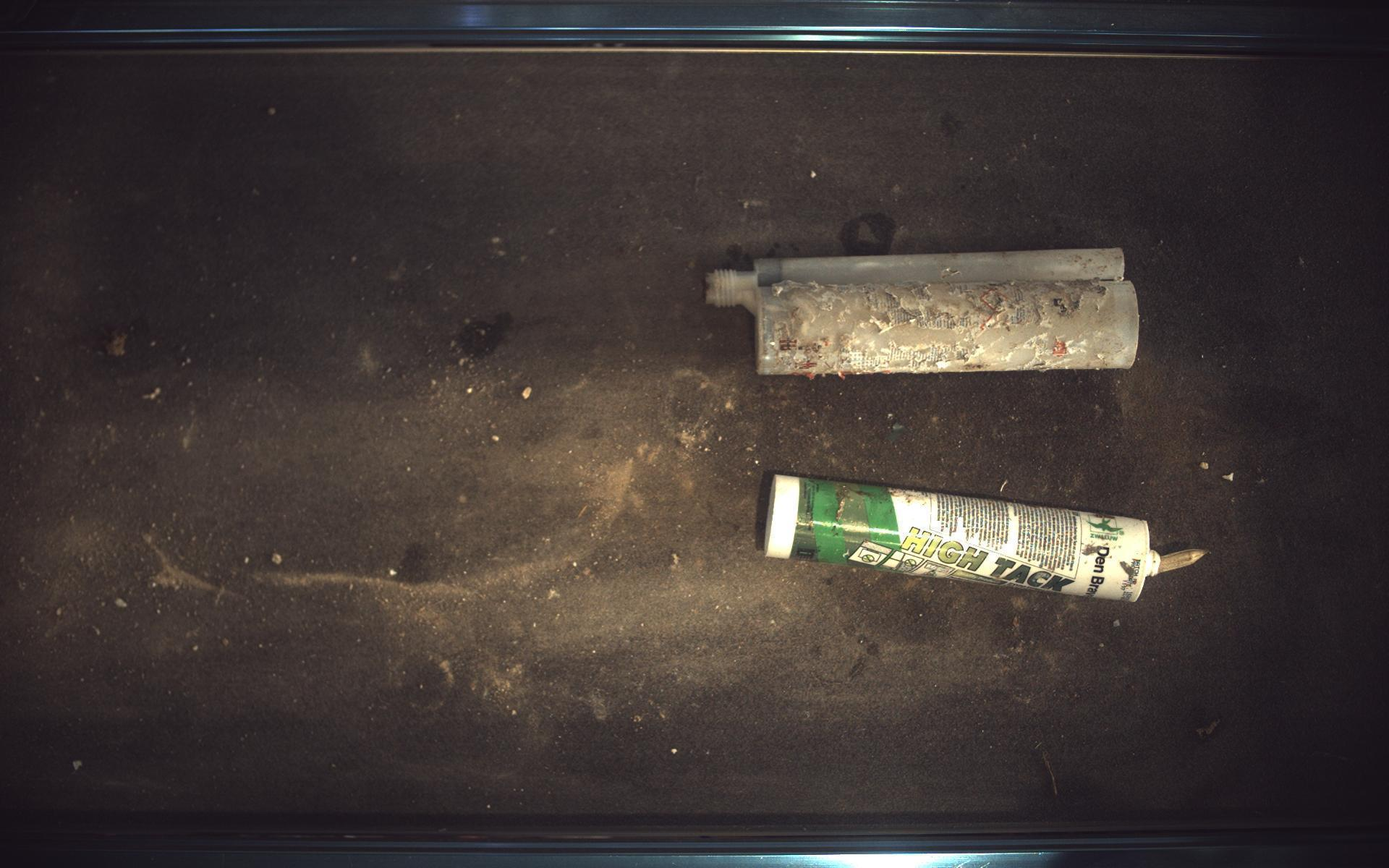plastic: (765, 475, 1207, 603), (708, 247, 1142, 375)
